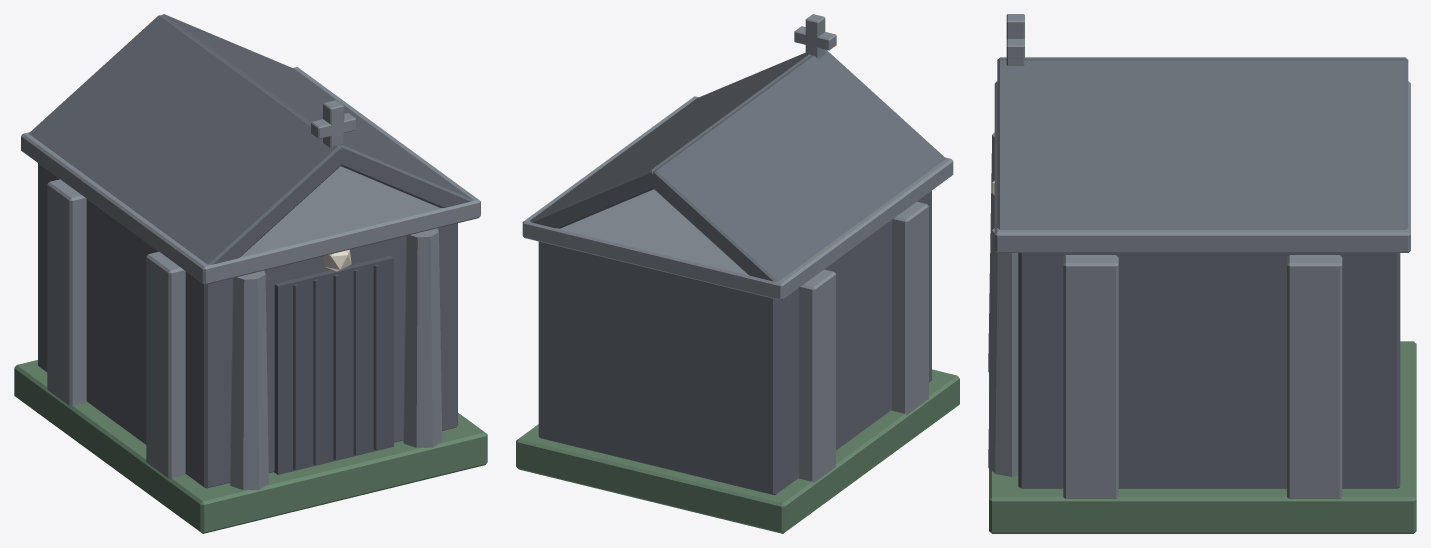
The model's file is outdoor_crypt.glb.
3 renders of one model, left to right at view 1: azimuth 30°, elevation 25°; view 2: azimuth 150°, elevation 25°; view 3: azimuth 270°, elevation 25°, orthographic. The views are drawn at different scales.
Parts seen in each view (by area): view 1: Outdoor_Crypt; view 2: Outdoor_Crypt; view 3: Outdoor_Crypt.
Part boxes in pixels (box(x1,y1,x2,y2)): Outdoor_Crypt: box(14, 14, 487, 533); Outdoor_Crypt: box(516, 14, 959, 533); Outdoor_Crypt: box(988, 14, 1416, 533).
Size of the model in its own units: 4.56 by 5.88 by 5.21.
